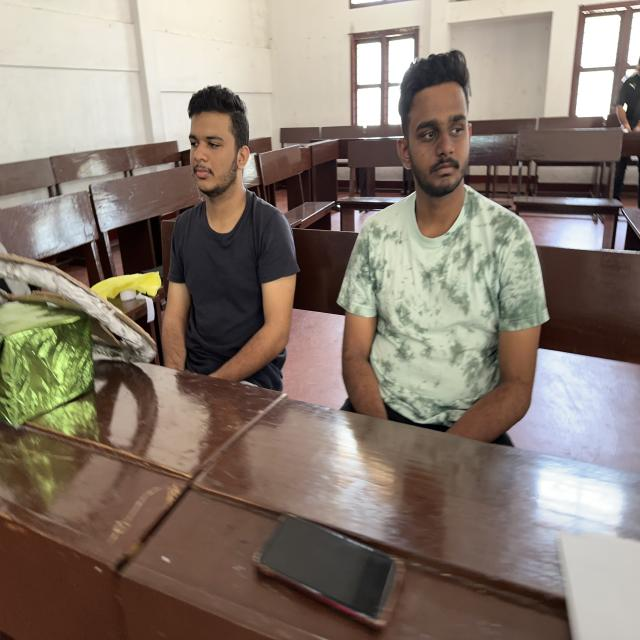Helmet: (338, 193, 550, 480), (161, 194, 302, 411)
